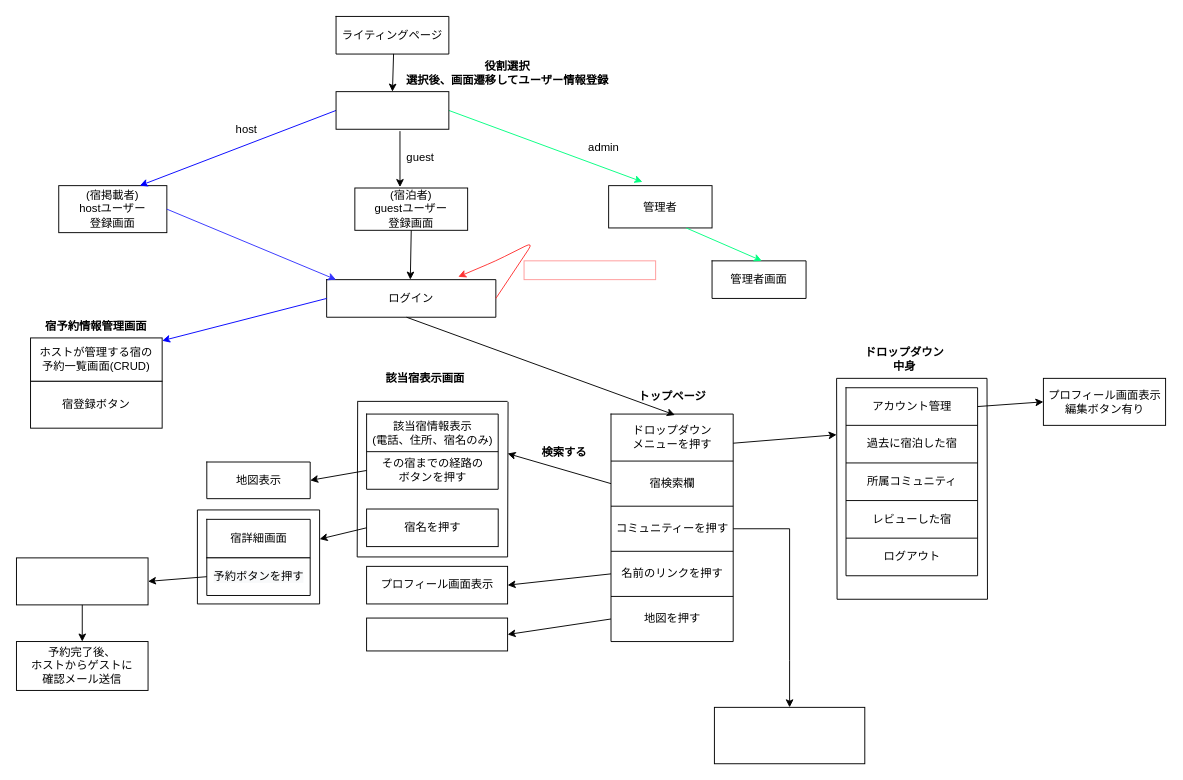
Some shapes in this 1183 by 780 pixel diagram are drawn without their labels. Here are the shapes that lost their labels. From the top down, the centre of each, then its label:
At point (392, 110): "新規登録".
At point (589, 270): "ログイン失敗".
At point (82, 581): "その宿のホストとゲストのチャットルーム作成".
At point (437, 634): "現在地取得".
At point (789, 735): "コミュニティ一覧画面".
